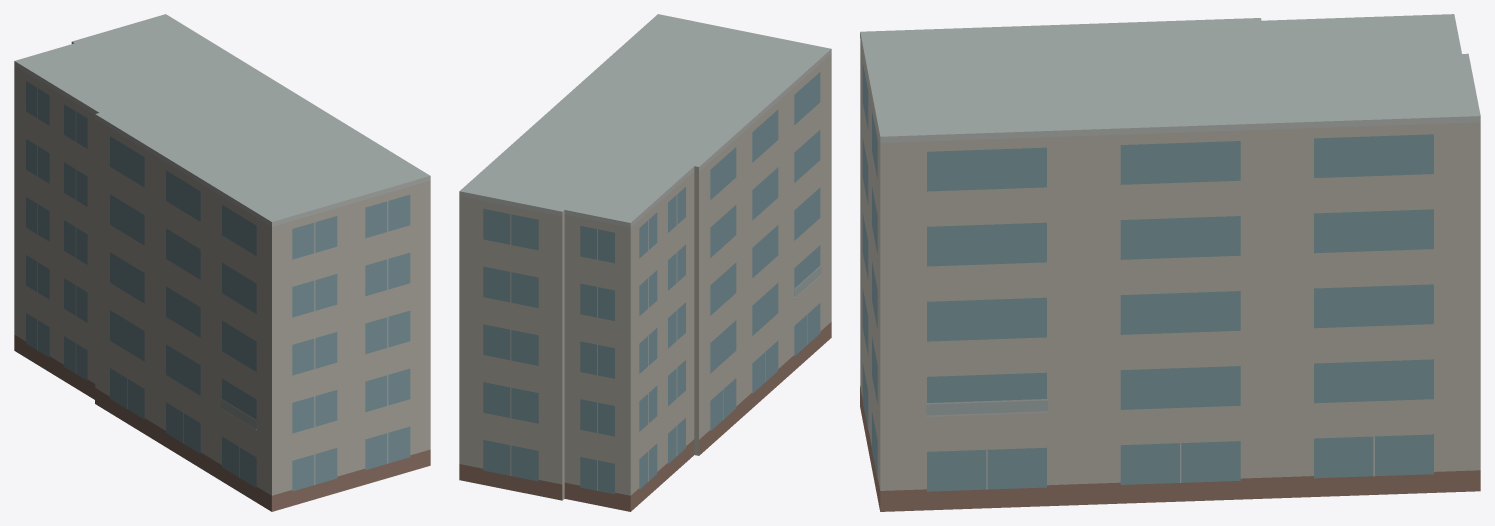
Rendered from survey-upis-33034409.glb.
3 renders of one model, left to right at view 1: azimuth 30°, elevation 25°; view 2: azimuth 150°, elevation 25°; view 3: azimuth 270°, elevation 25°, orthographic. The views are drawn at different scales.
Visible parts, largest first — view 1: survey-upis-33034409.tmp; view 2: survey-upis-33034409.tmp; view 3: survey-upis-33034409.tmp.
Part boxes in pixels (bbox=[...]): survey-upis-33034409.tmp: bbox=[14, 14, 430, 511]; survey-upis-33034409.tmp: bbox=[459, 14, 831, 511]; survey-upis-33034409.tmp: bbox=[860, 14, 1480, 511].
Size of the model in its own units: 10.29 by 14.65 by 21.97.
